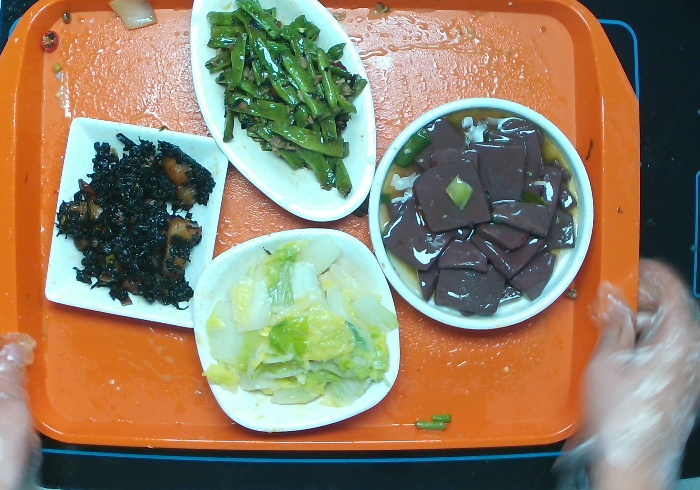HZYJPL-Si_Fang_Die: (41, 115, 232, 331)
HZYJPL-Si_Fang_Yuan_Die: (189, 224, 404, 437)
HZYJPL-Xiao_Yu_Die: (187, 1, 380, 225)
HZYJPL-Xiao_Yuan_Die: (363, 92, 596, 335)
